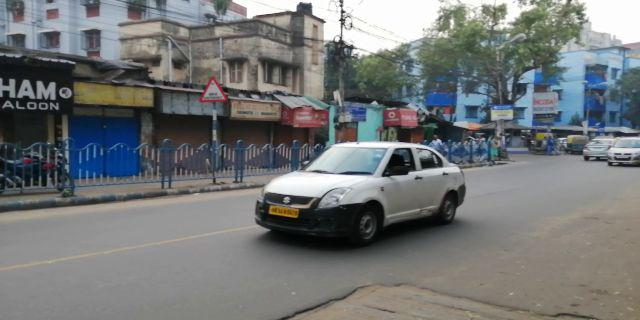Car: (255, 142, 471, 235), (610, 137, 638, 165)
